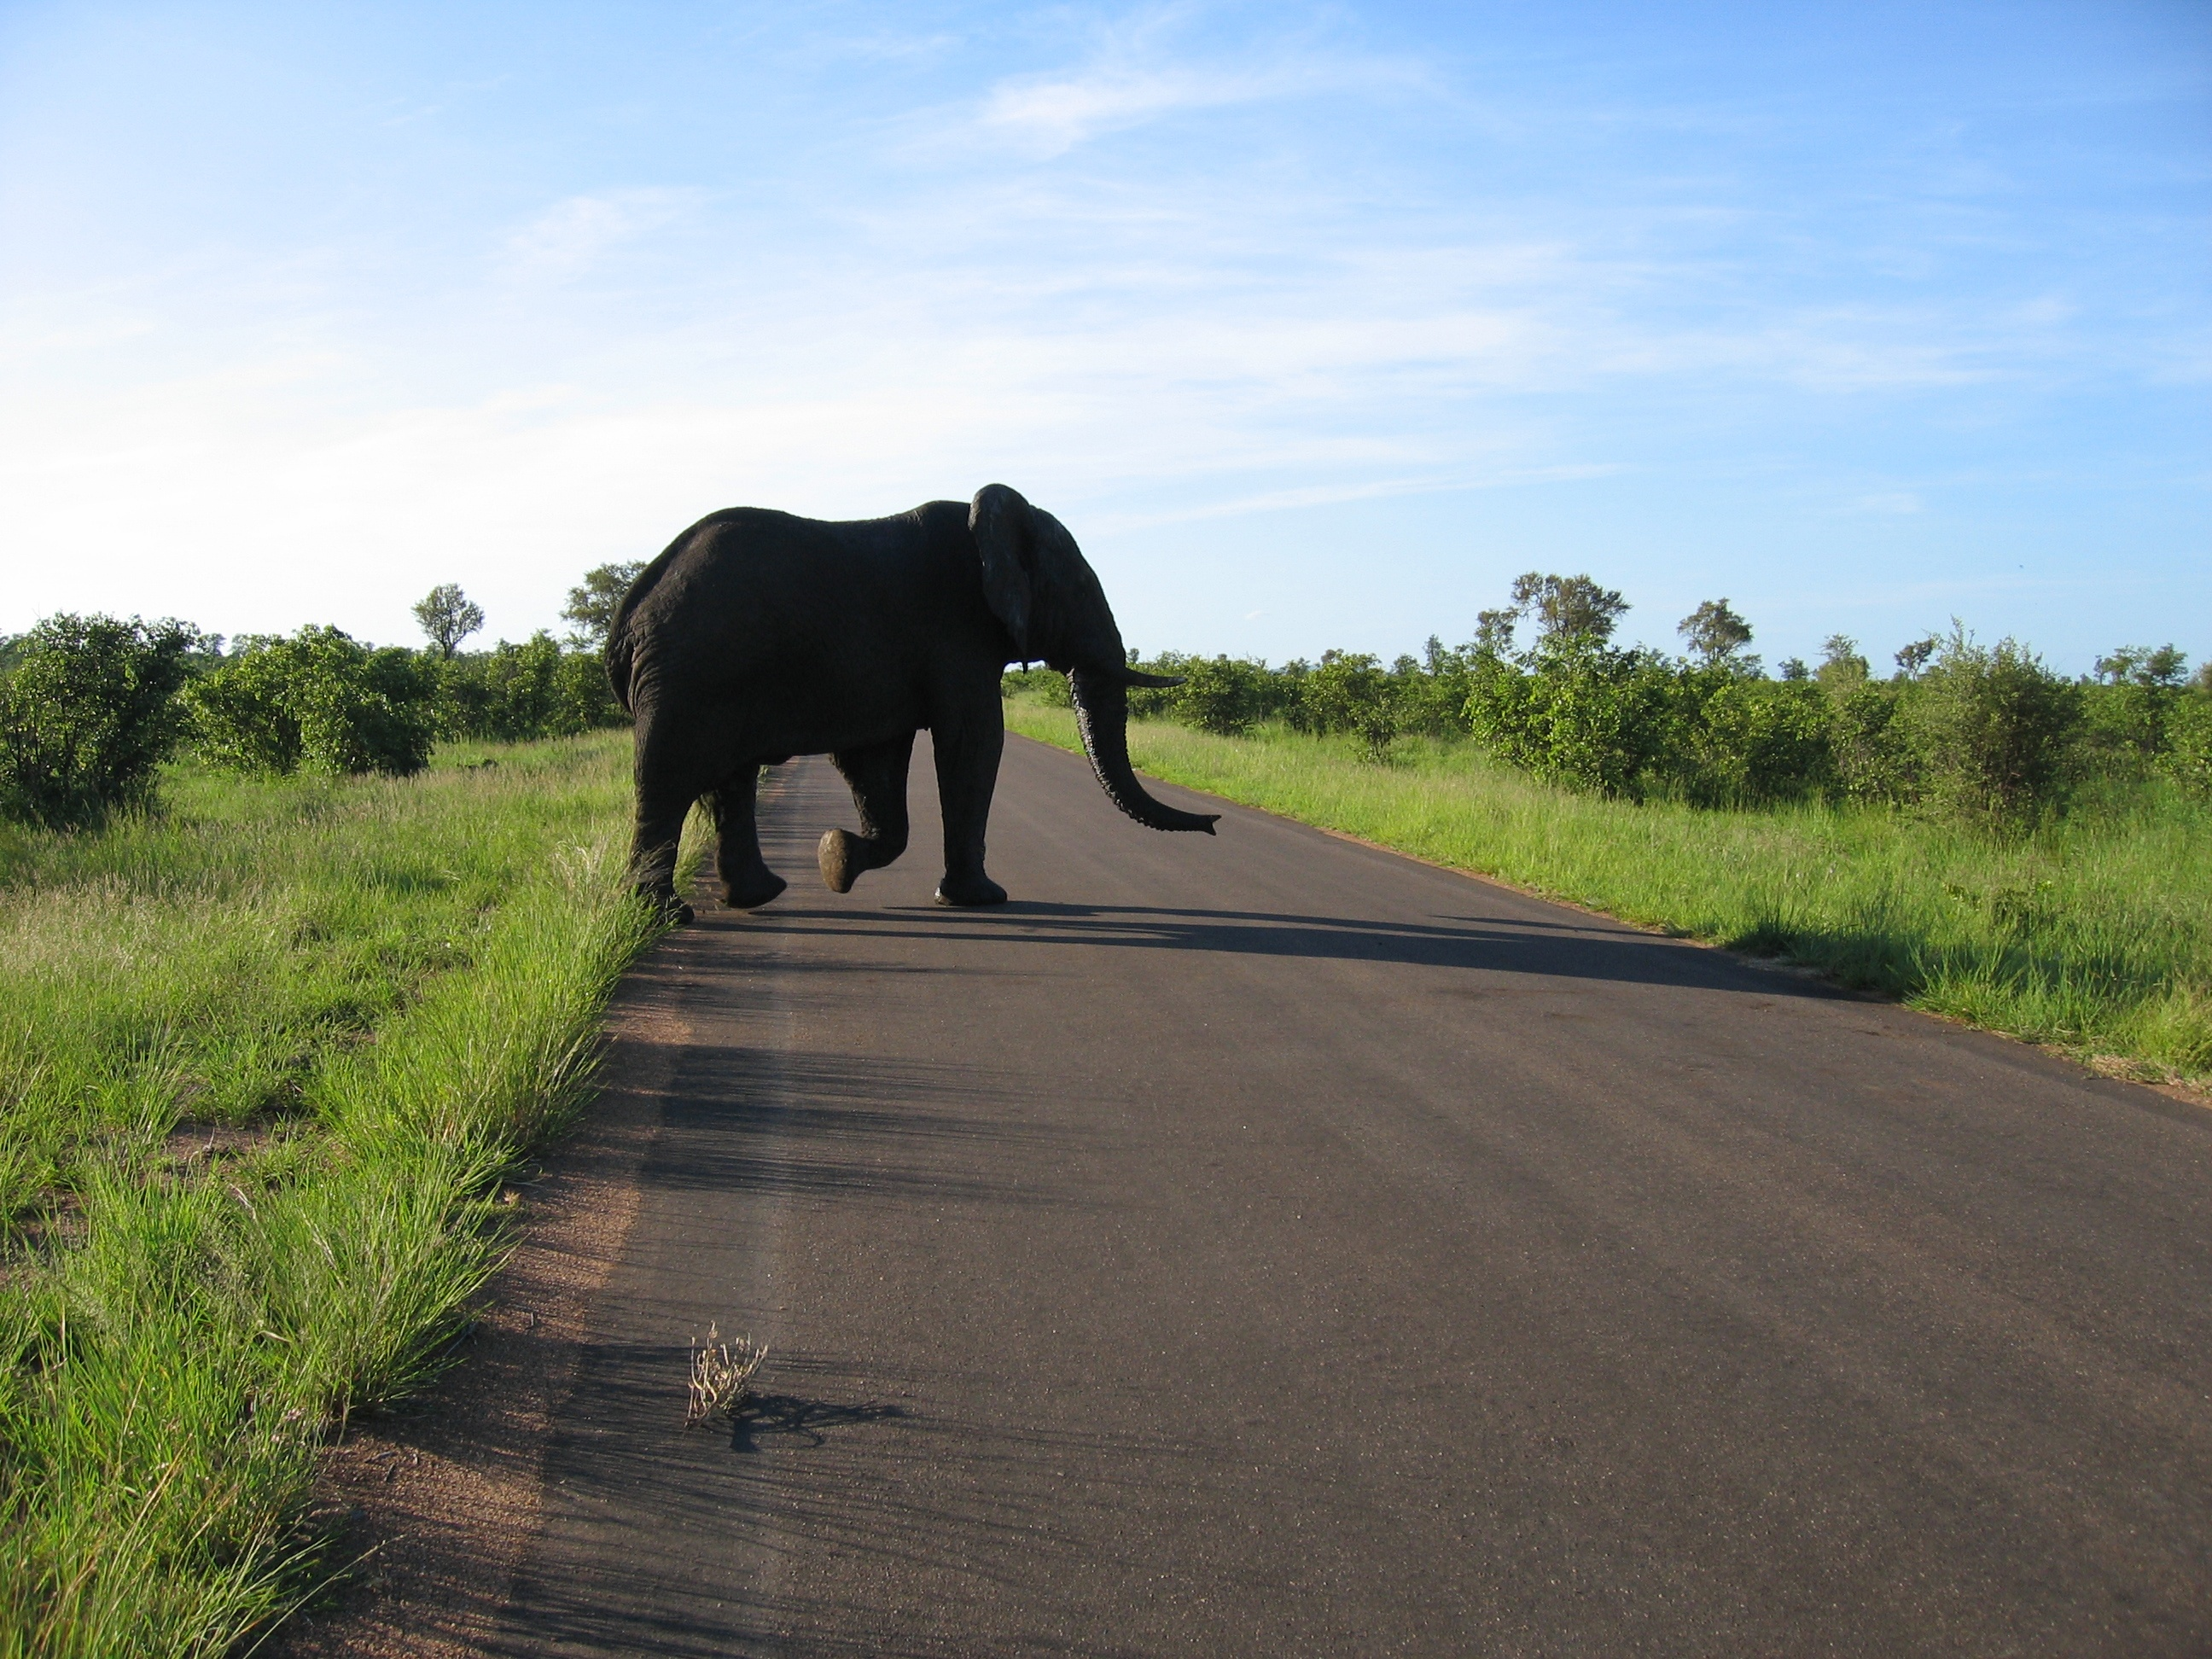elephant: (601, 479, 1226, 903)
